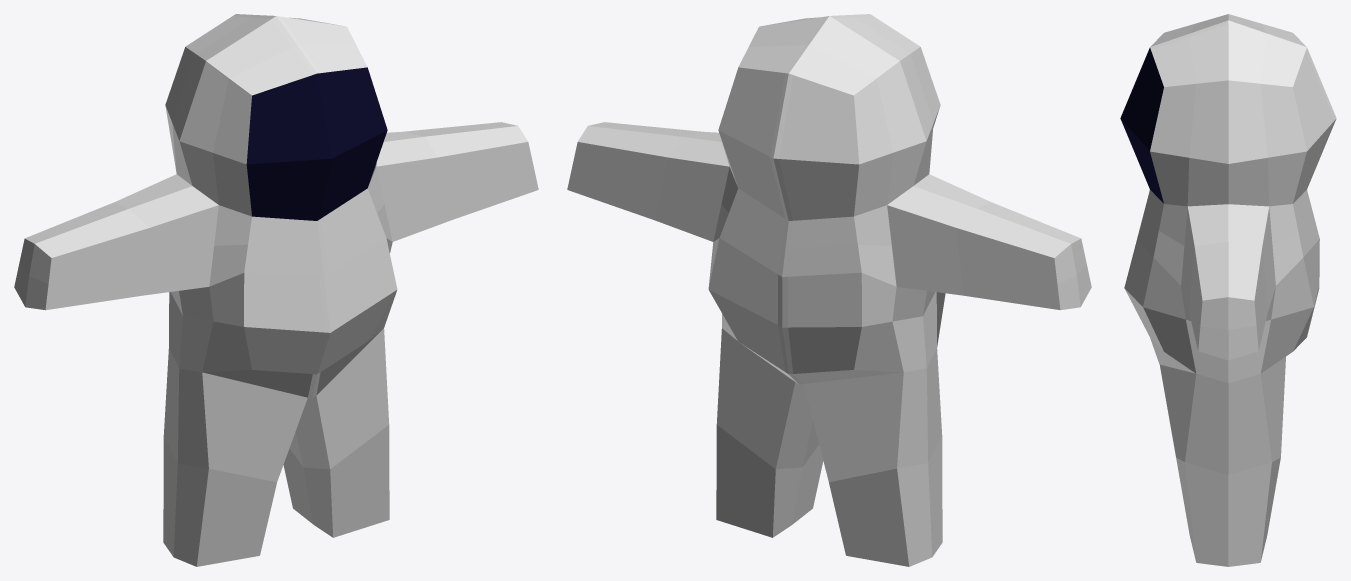
File: SpaceBoyAstronaut.fbx
3 views of the same model, side by side, from view 1: azimuth 30°, elevation 25°; view 2: azimuth 150°, elevation 25°; view 3: azimuth 270°, elevation 25° (orthographic). The views are drawn at different scales.
Parts seen in each view (by area): view 1: Cube; view 2: Cube; view 3: Cube.
Boxes of the visible parts, <box> form: Cube: <box>14,14,538,566</box>; Cube: <box>567,14,1091,566</box>; Cube: <box>1120,14,1336,566</box>.
Size of the model in its own units: 239 by 235 by 92.35.
